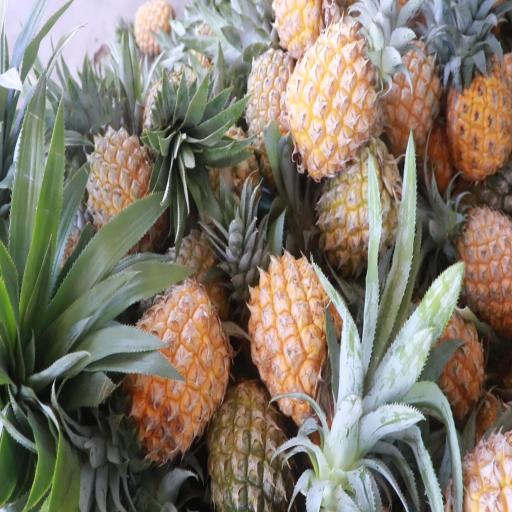------------------------------: (322, 150, 407, 271)
Pineapple - v8 v1: (124, 286, 230, 452), (250, 255, 341, 413), (292, 32, 376, 174), (411, 306, 486, 430), (441, 202, 512, 314), (443, 63, 512, 175), (378, 38, 444, 153)
